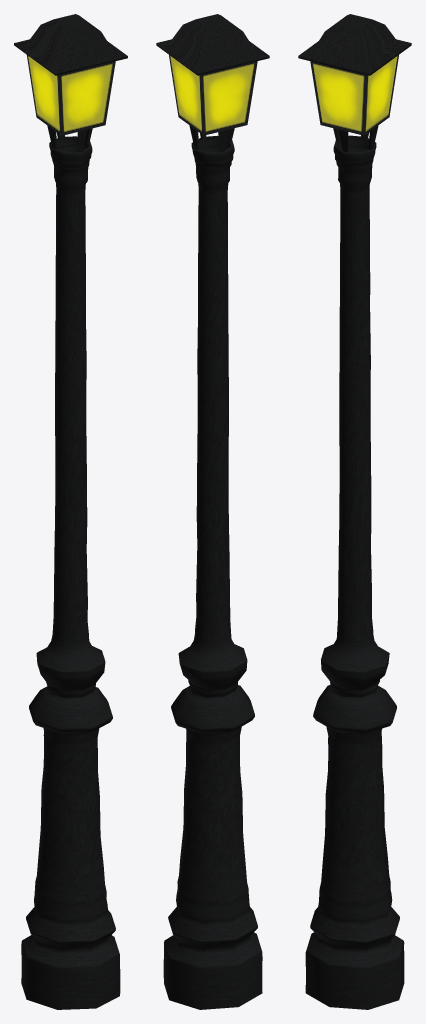
The model's file is LightPole.obj.
3 views of the same model, side by side, from view 1: azimuth 30°, elevation 25°; view 2: azimuth 210°, elevation 25°; view 3: azimuth 330°, elevation 25° (orthographic).
Visible parts, largest first — view 1: polySurface1; view 2: polySurface1; view 3: polySurface1.
Boxes of the visible parts, x1,y1,x2,y2 form: polySurface1: [14, 14, 127, 1009]; polySurface1: [156, 14, 269, 1009]; polySurface1: [298, 14, 411, 1009].
Bounding box in the file's own units: 6.34 × 66.21 × 6.33.
2 materials, 2 textured.
